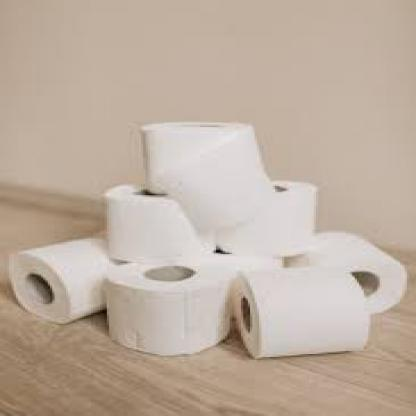tissue: (110, 249, 246, 358), (139, 121, 255, 203)
